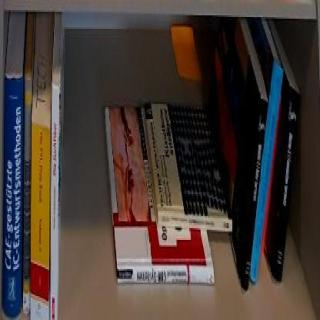book-spine: (246, 59, 284, 284), (239, 95, 269, 295), (270, 88, 300, 283), (2, 73, 24, 319), (30, 120, 50, 320), (22, 75, 32, 317), (116, 266, 214, 288), (50, 83, 59, 320), (157, 214, 234, 235)
